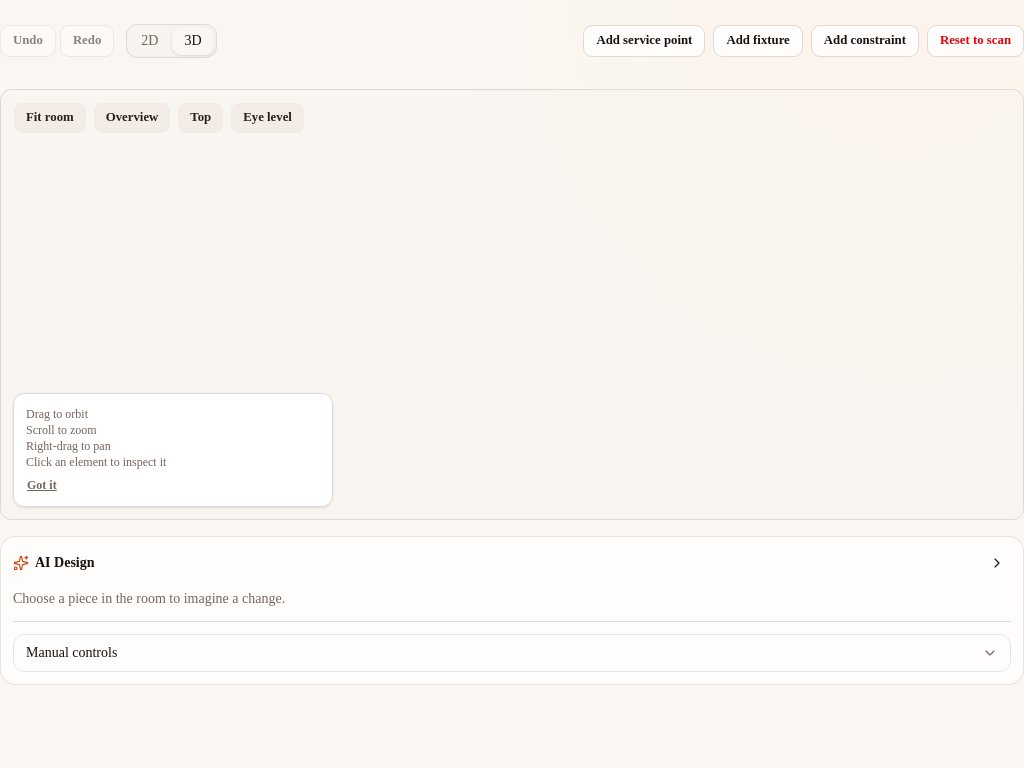
Test: SpatialEditor — Reset-to-Scan › requires deliberate confirmation before submitting a reset
Expected: the picture named "3d room view" is shown, [1,90,301,240]
Click the radio button labelled "2D".
click(150, 40)  # box [129,26,170,54]
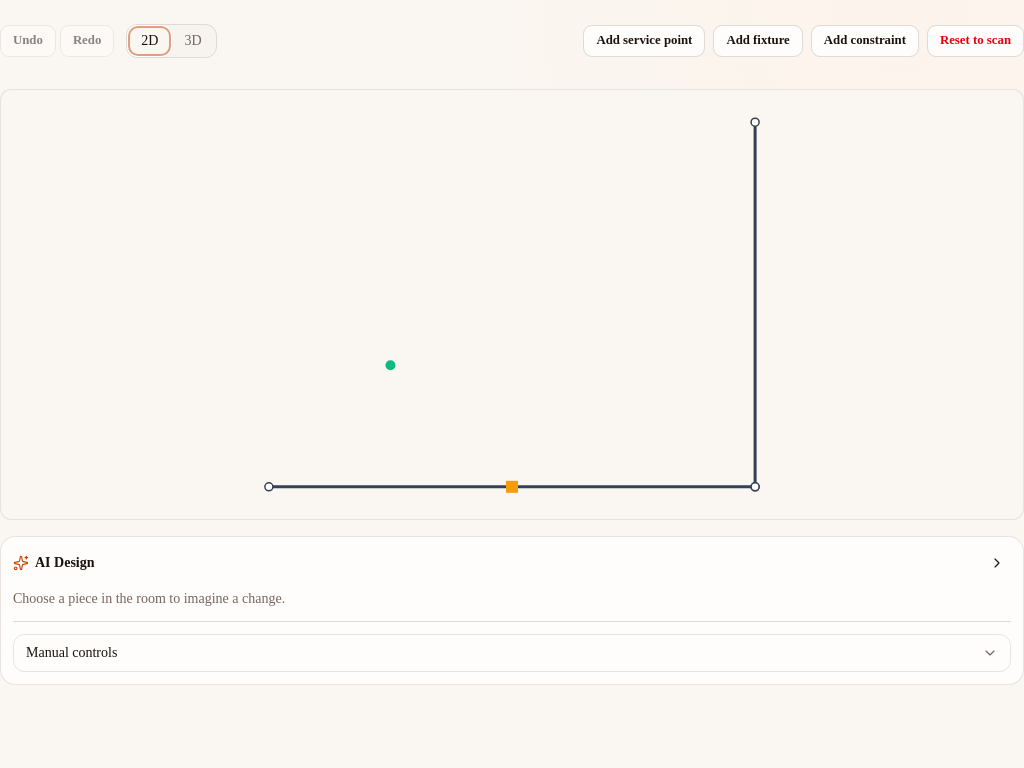
Now the picture named "floor plan" is shown, box [1,90,1023,519]
Click the button "Reset to scan".
click(975, 40)  # box [927,24,1023,56]
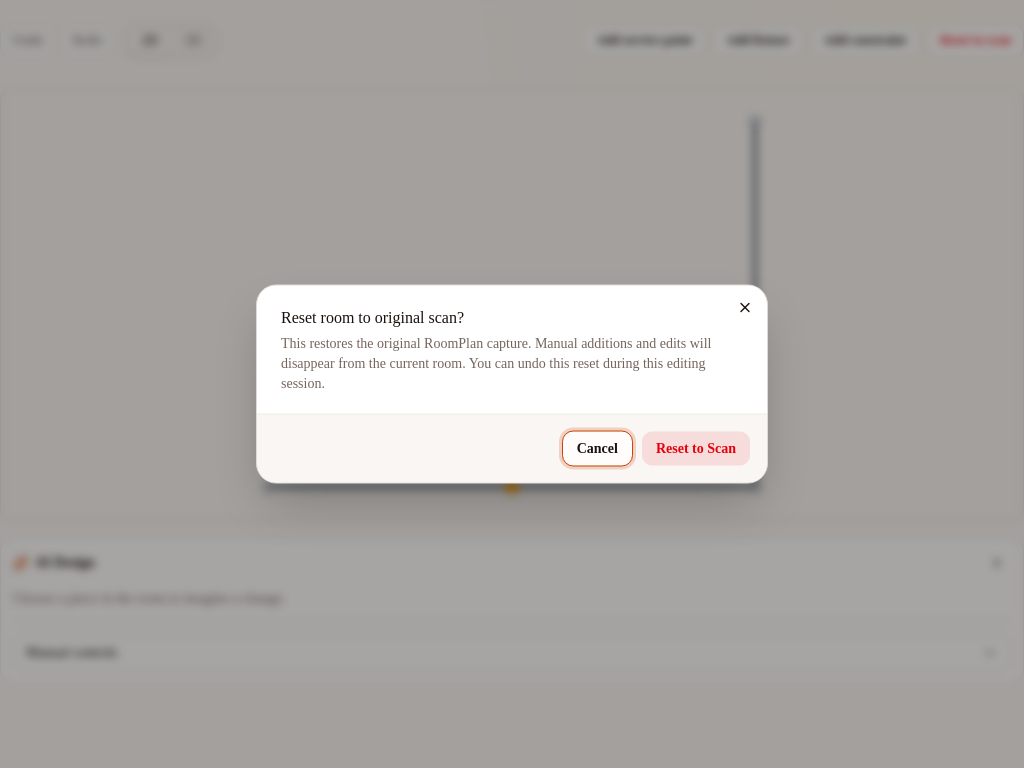
Now the text "restores the original RoomPlan capture" is shown, box [281,336,711,390]
